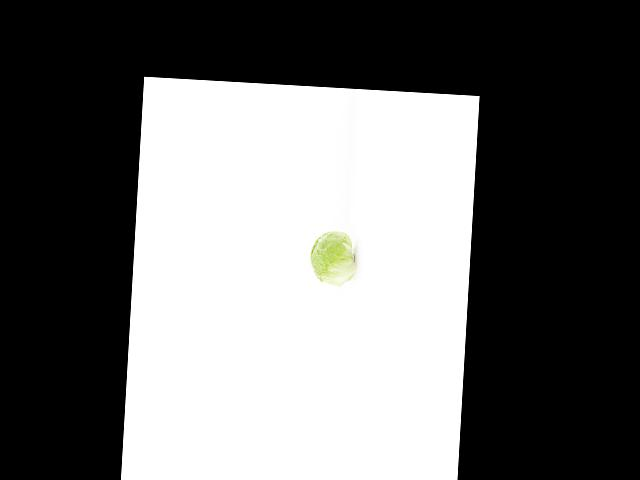lettuce: (307, 223, 355, 287)
